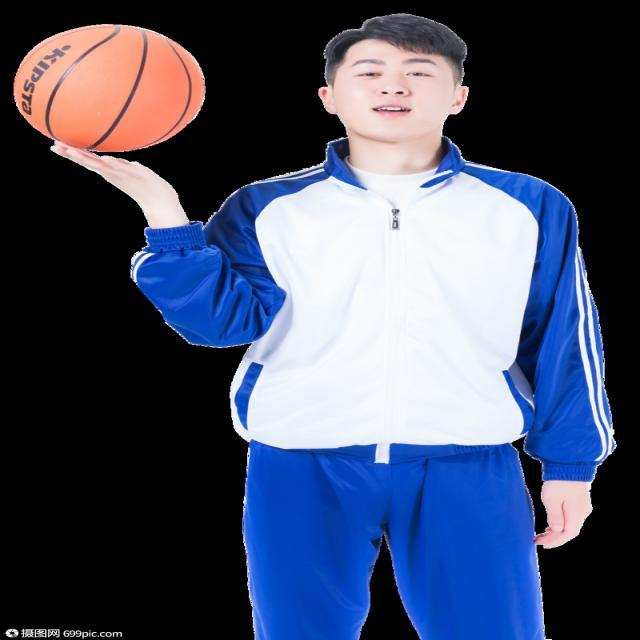rim: (15, 25, 203, 157)
